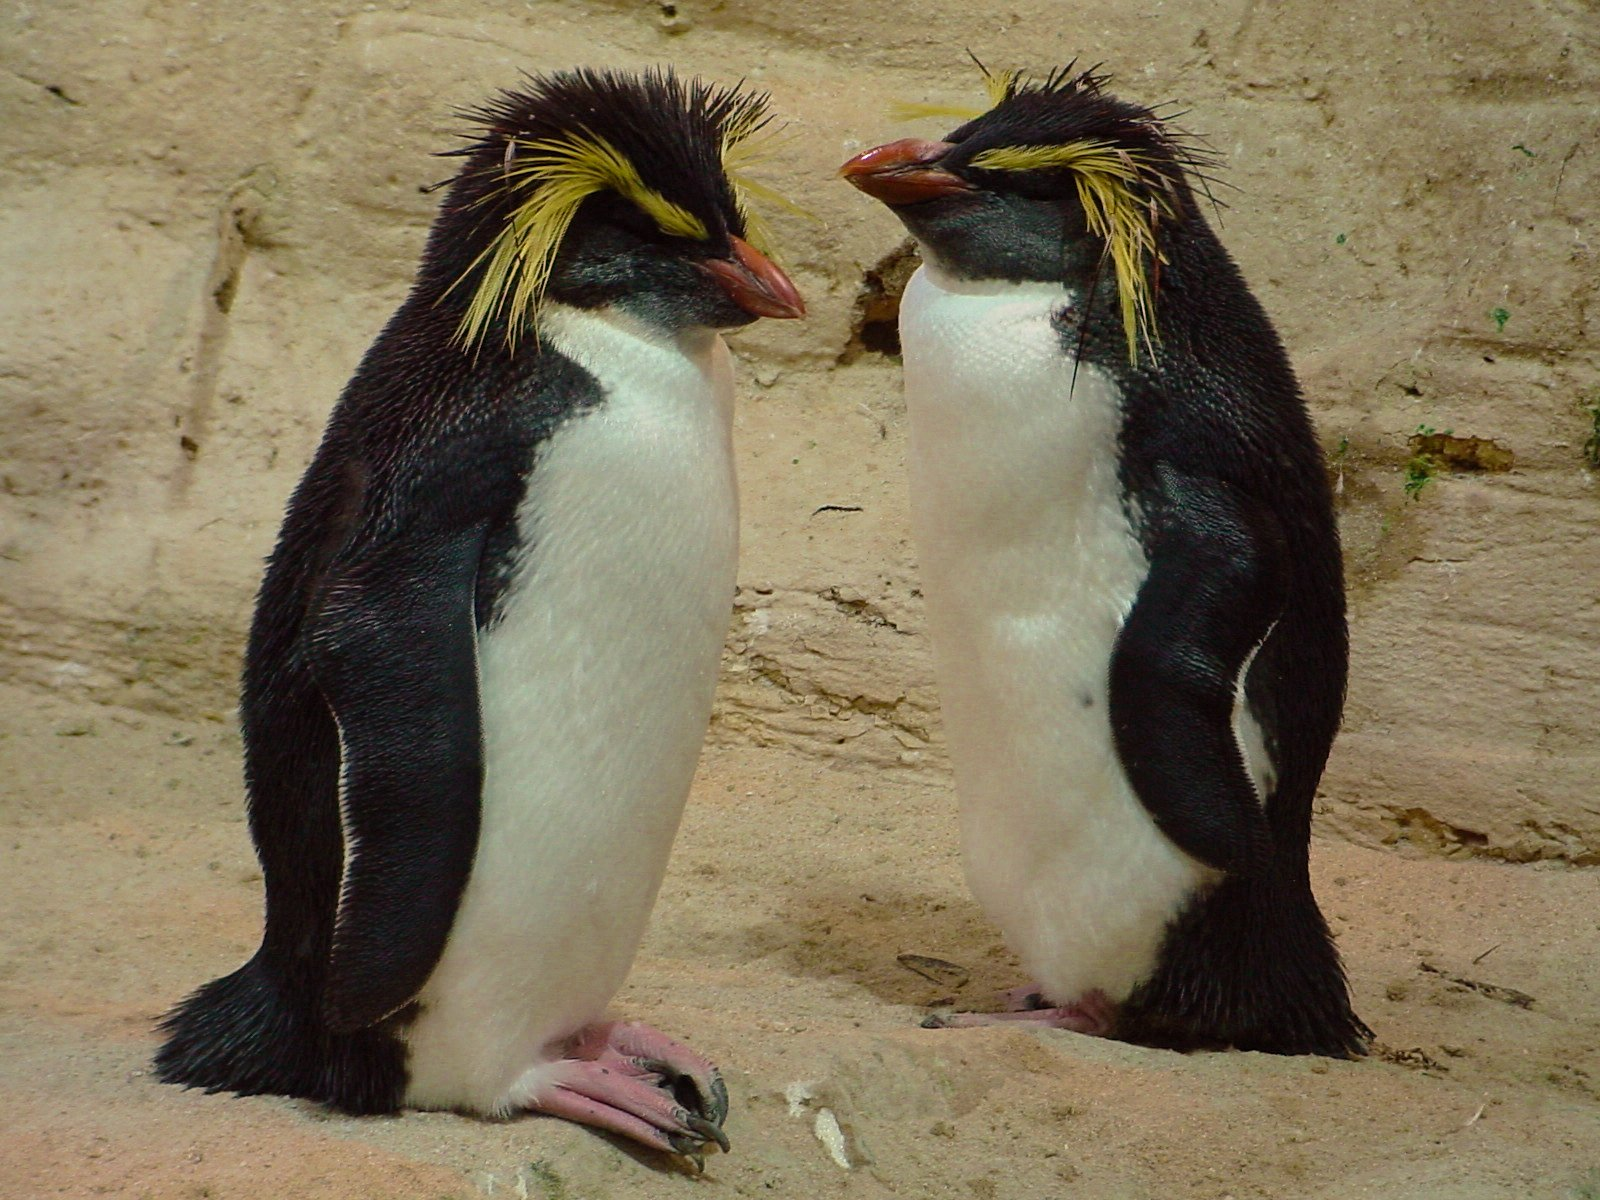penguin: (175, 77, 779, 1192), (826, 76, 1439, 1065)
